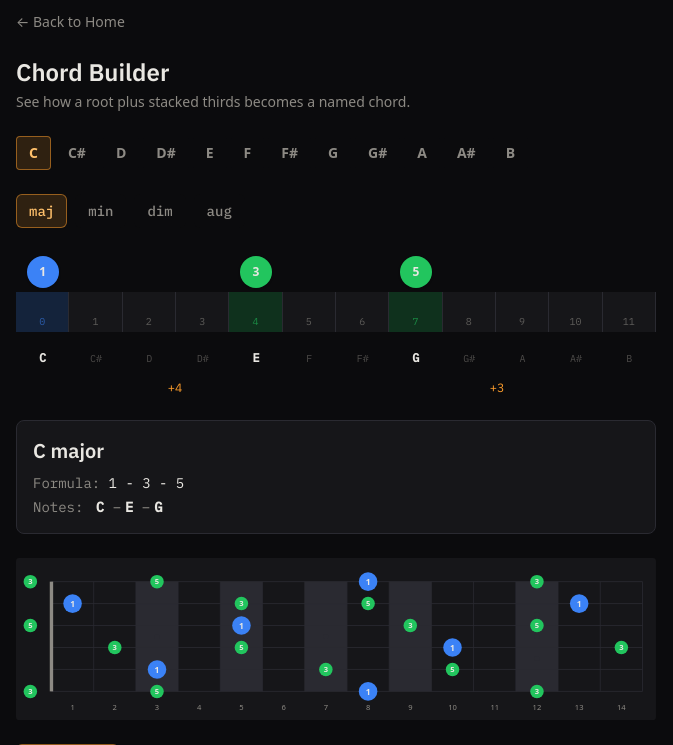
ChordBuilder › quality toggle › clicking dim toggle shows C diminished chord name
Click the button "dim". click: (160, 211)
box: [134,194,186,228]
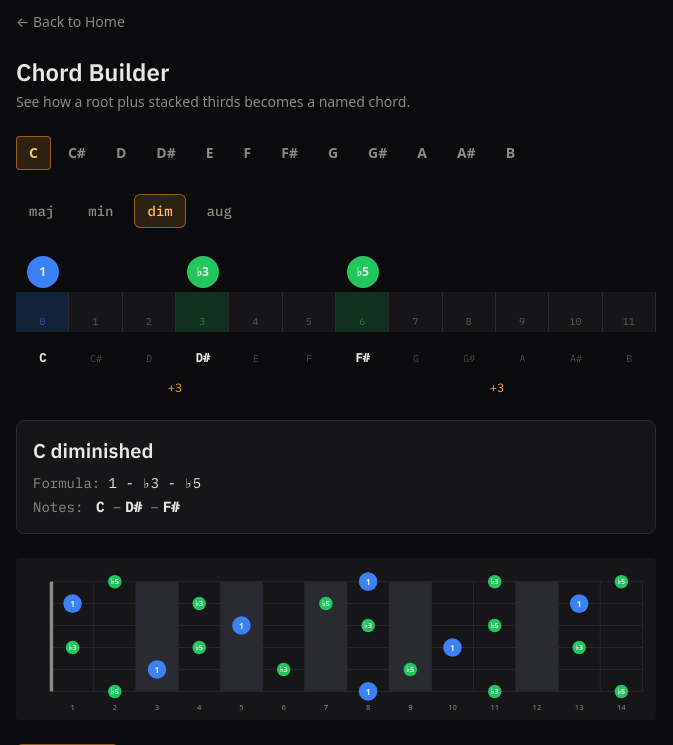
Check: the text "C diminished" is shown, box [33,437,154,464]
